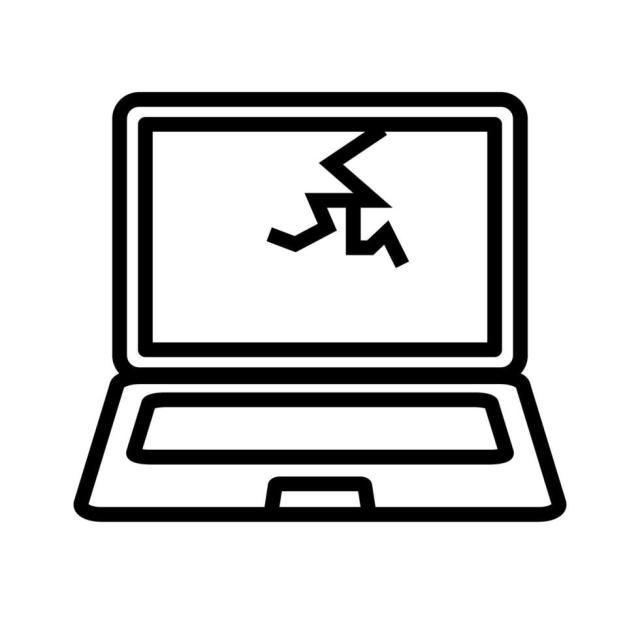computers: (75, 93, 563, 519)
